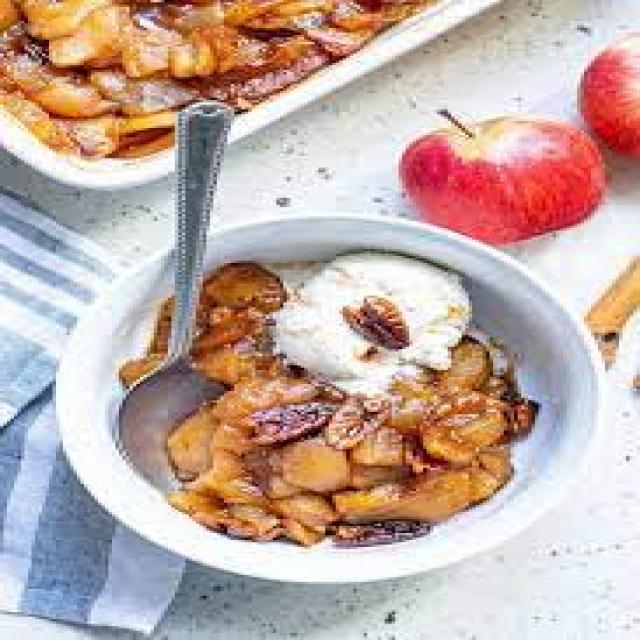Apple: (398, 121, 602, 229), (570, 34, 640, 160)
